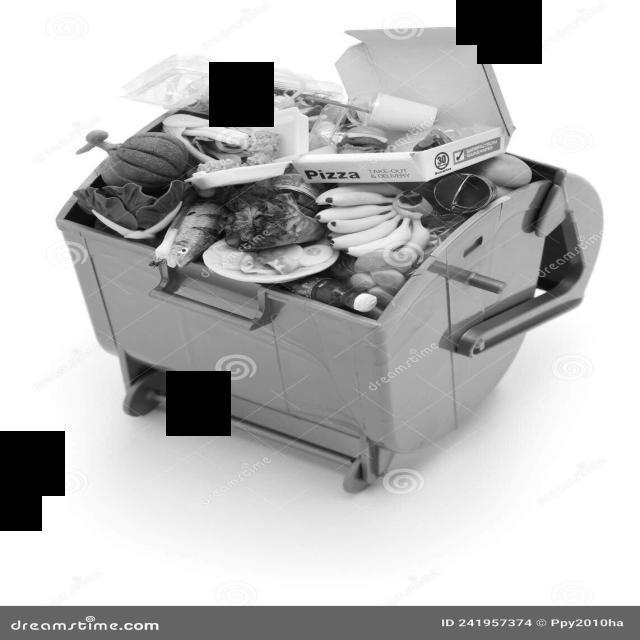Disposable: (124, 55, 344, 119), (348, 92, 438, 131), (313, 110, 342, 146)
Garbage: (74, 21, 533, 319)
Glass_bottle: (283, 276, 377, 312)
Plastic_Container: (191, 108, 309, 189)
Plastic_Straw: (305, 96, 370, 114)
tin_box: (435, 172, 498, 212), (274, 172, 326, 216)
